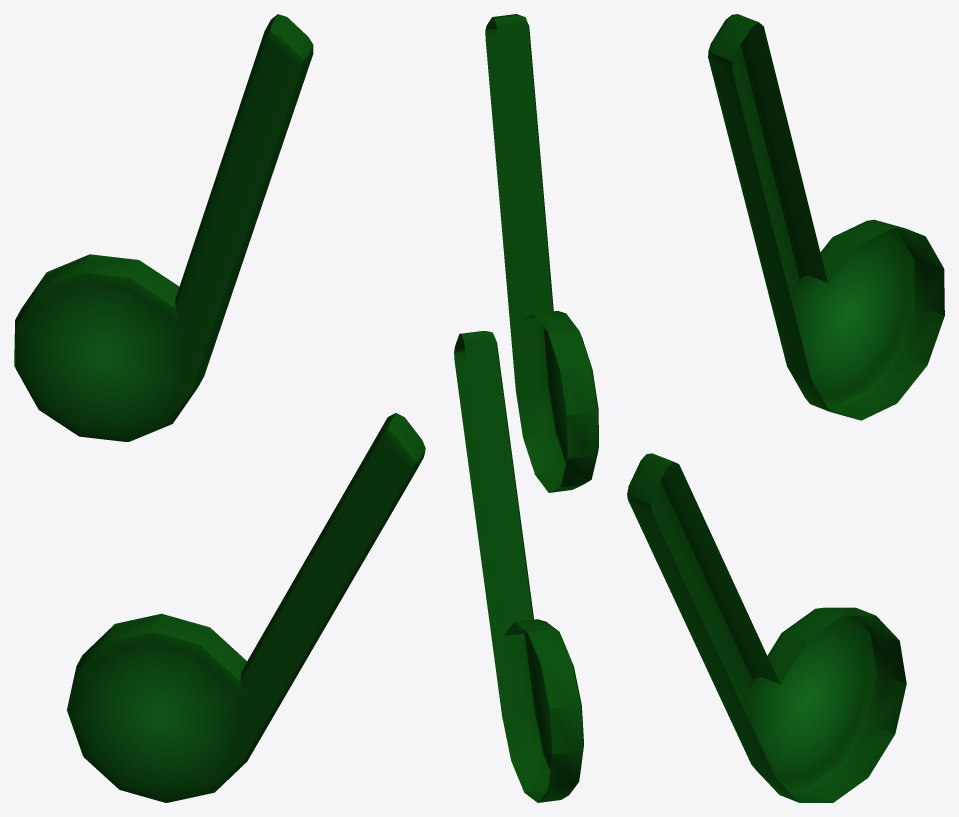
File: Grave Medium Notes.fbx
3 renders of one model, left to right at view 1: azimuth 30°, elevation 25°; view 2: azimuth 150°, elevation 25°; view 3: azimuth 270°, elevation 25°, orthographic. The views are drawn at different scales.
Visible parts, largest first — view 1: polySurface332; view 2: polySurface332; view 3: polySurface332.
Boxes of the visible parts, left/top/right/bottom form: polySurface332: left=14, top=14, right=425, bottom=802; polySurface332: left=454, top=14, right=598, bottom=802; polySurface332: left=627, top=14, right=944, bottom=802.
Bounding box in the file's own units: 55.81 × 149 × 52.59.
